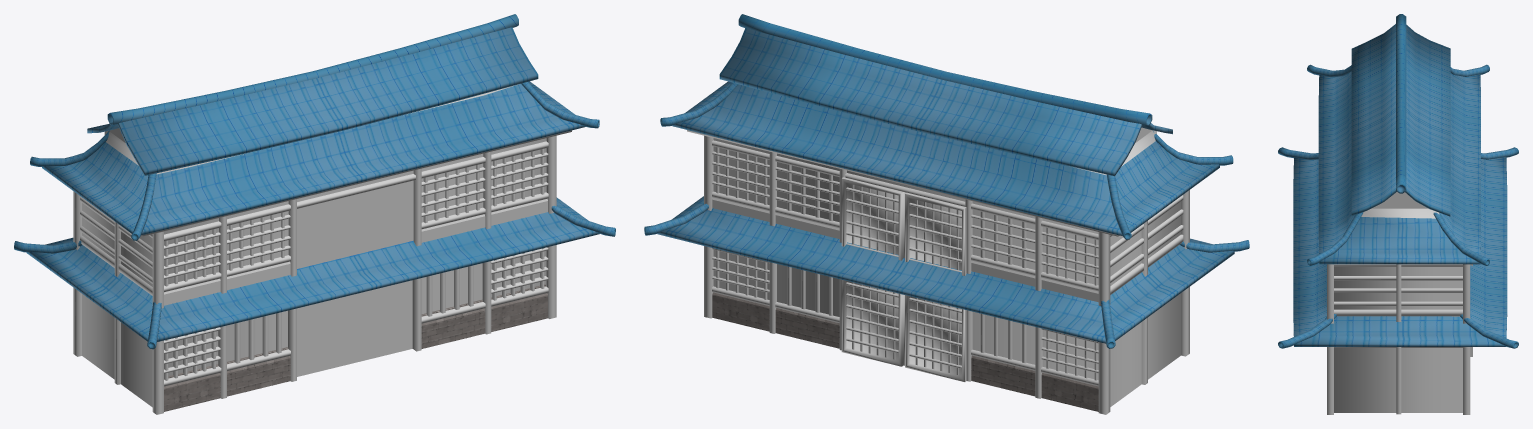
File: Building_2.fbx
3 views of the same model, side by side, from view 1: azimuth 30°, elevation 25°; view 2: azimuth 150°, elevation 25°; view 3: azimuth 270°, elevation 25° (orthographic). The views are drawn at different scales.
Visible parts, largest first — view 1: Building_2; view 2: Building_2; view 3: Building_2.
Boxes of the visible parts, bbox=[...] form: Building_2: bbox=[14, 14, 615, 414]; Building_2: bbox=[644, 14, 1249, 414]; Building_2: bbox=[1278, 14, 1518, 414].
Bounding box in the file's own units: 12.91 × 7.12 × 6.69.
